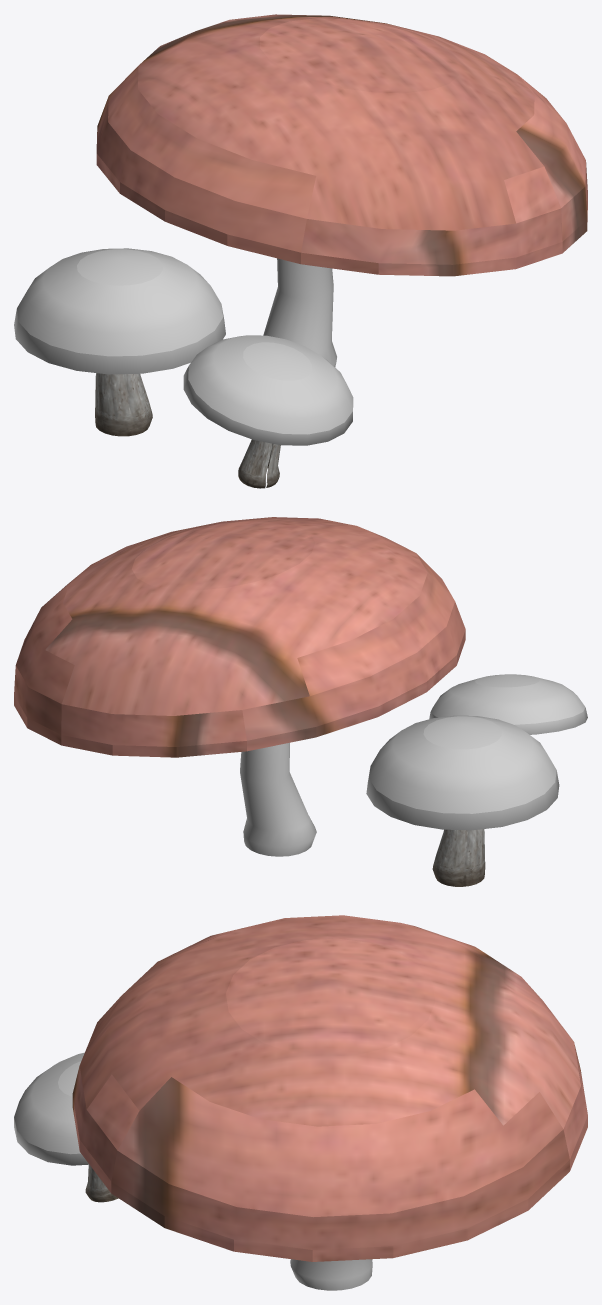
The model's file is mantar.fbx.
3 views of the same model, one above another, from view 1: azimuth 30°, elevation 25°; view 2: azimuth 150°, elevation 25°; view 3: azimuth 270°, elevation 25° (orthographic). The views are drawn at different scales.
Visible parts, largest first — view 1: polySurface4, polySurface1, polySurface6, polySurface3, polySurface2, polySurface5; view 2: polySurface4, polySurface1, polySurface6, polySurface3, polySurface2; view 3: polySurface4, polySurface6, polySurface3, polySurface5.
Boxes of the visible parts, x1,y1,x2,y2 form: polySurface4: [96, 14, 587, 276]; polySurface1: [14, 248, 225, 374]; polySurface6: [183, 335, 353, 445]; polySurface3: [263, 258, 336, 366]; polySurface2: [95, 373, 152, 436]; polySurface5: [238, 439, 280, 488]; polySurface4: [14, 517, 465, 757]; polySurface1: [366, 715, 559, 830]; polySurface6: [429, 674, 587, 734]; polySurface3: [240, 742, 316, 856]; polySurface2: [432, 829, 485, 886]; polySurface4: [72, 915, 587, 1261]; polySurface6: [14, 1052, 89, 1165]; polySurface3: [290, 1259, 372, 1290]; polySurface5: [85, 1164, 118, 1202].
Bounding box in the file's own units: 10.97 × 6.15 × 9.81.
